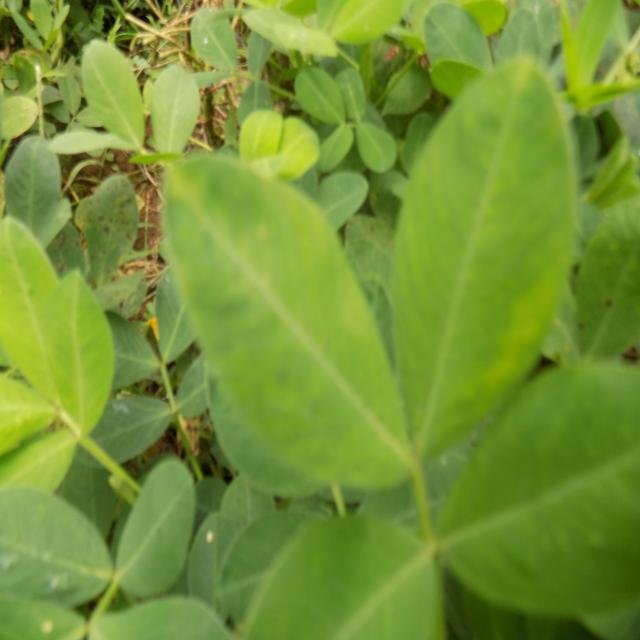Ground nut_healthy: (162, 154, 433, 488), (403, 42, 581, 462), (427, 366, 640, 606), (109, 459, 204, 599), (44, 254, 110, 438), (86, 35, 151, 147), (5, 134, 68, 243), (146, 62, 196, 157)
Ground nut_tikka leaf spot: (78, 164, 144, 290)
